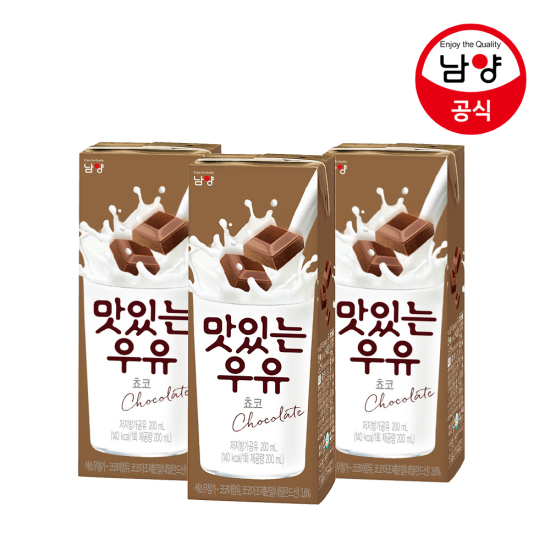milk: (77, 144, 465, 502)
